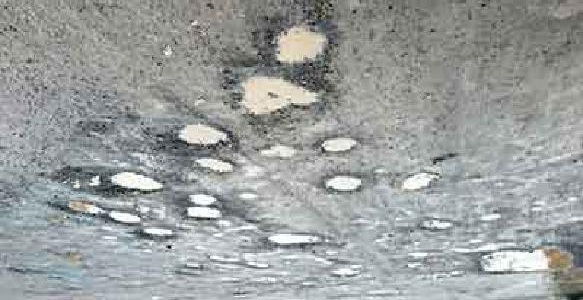pothole: (235, 76, 327, 120), (478, 247, 574, 277), (269, 24, 332, 67), (169, 121, 232, 150), (107, 171, 164, 196), (263, 232, 328, 250), (49, 199, 107, 219), (191, 155, 237, 176), (399, 170, 437, 193), (322, 175, 363, 195), (319, 136, 361, 153), (257, 143, 298, 160), (136, 226, 175, 243), (108, 210, 142, 227), (182, 208, 223, 222), (419, 219, 454, 233), (184, 193, 217, 207)
